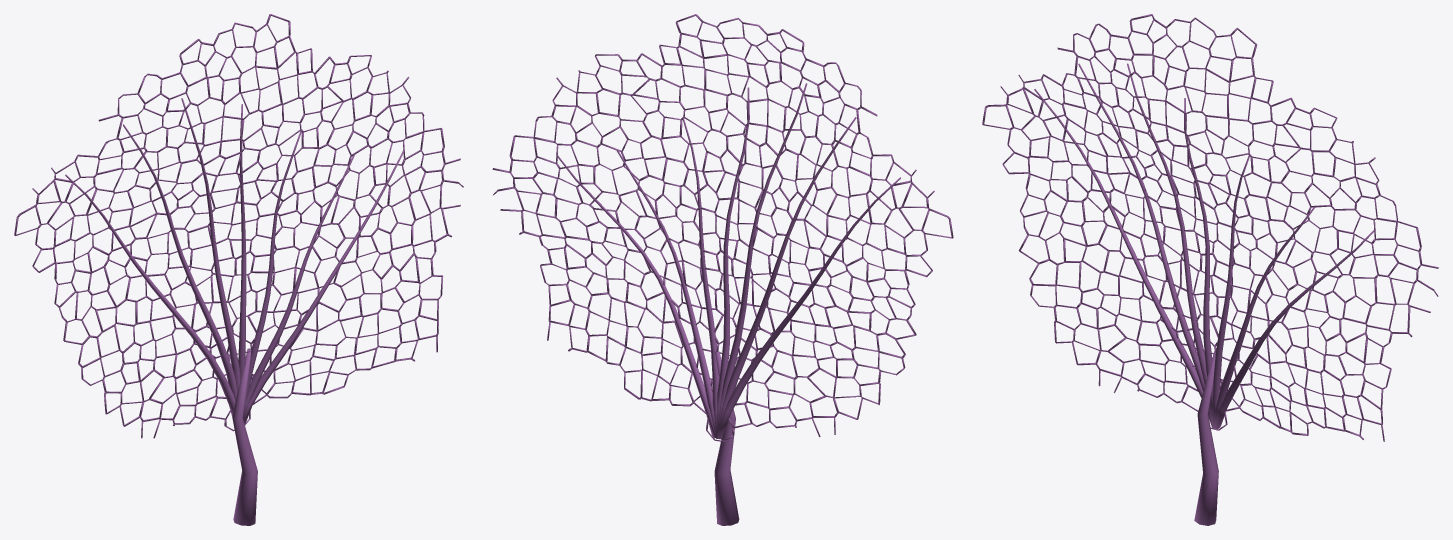
File: sea-fan.glb
The picture shows the model from 3 angles, left to right: view 1: azimuth 30°, elevation 25°; view 2: azimuth 150°, elevation 25°; view 3: azimuth 330°, elevation 25°; orthographic projection.
Parts seen in each view (by area): view 1: sea-fan; view 2: sea-fan; view 3: sea-fan.
Part boxes in pixels (x1,y1,x2,y2): sea-fan: (14, 14, 463, 525); sea-fan: (492, 14, 953, 525); sea-fan: (982, 14, 1438, 525).
Bounding box in the file's own units: 0.9566 × 1.02 × 0.0727.
